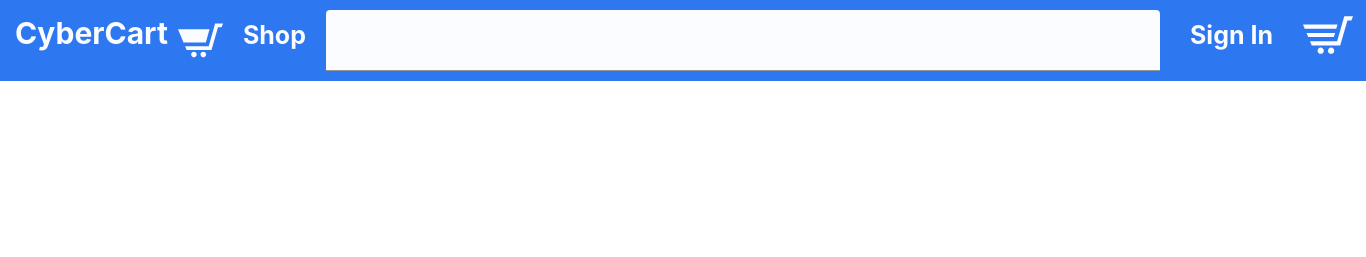
Test: Navbar › Account Menu › the account sub menu should be rendered on mouse over the username
The width and height of the screenshot is (1366, 257).
Step 1. Click the button "Sign In" → click(1232, 40), box [1190,20,1273,61]
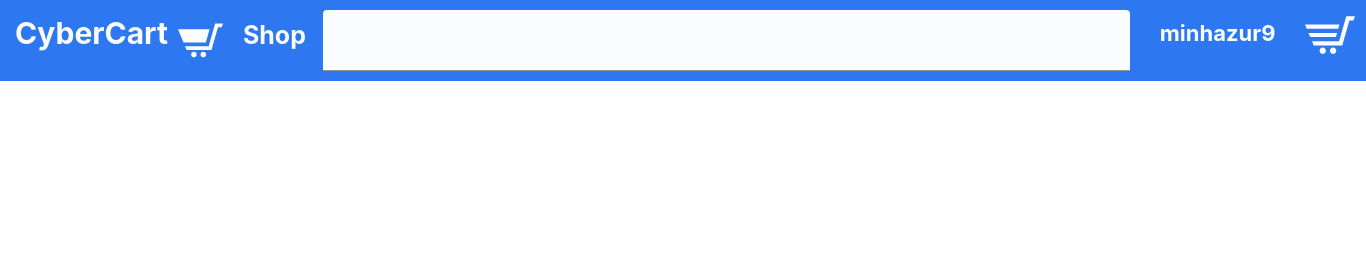
Step 2. Hover over the button with test id "account-button" → (1218, 33), box [1160,20,1276,46]
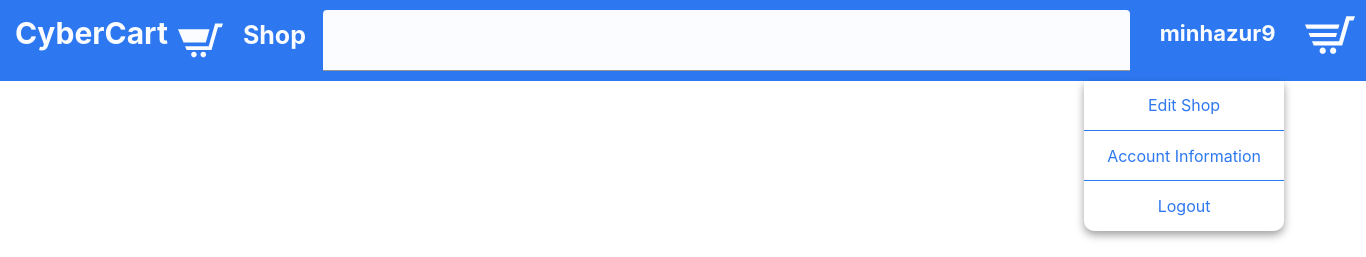
Expected: the element with test id "account-menu" is shown, [1084,81,1284,231]
